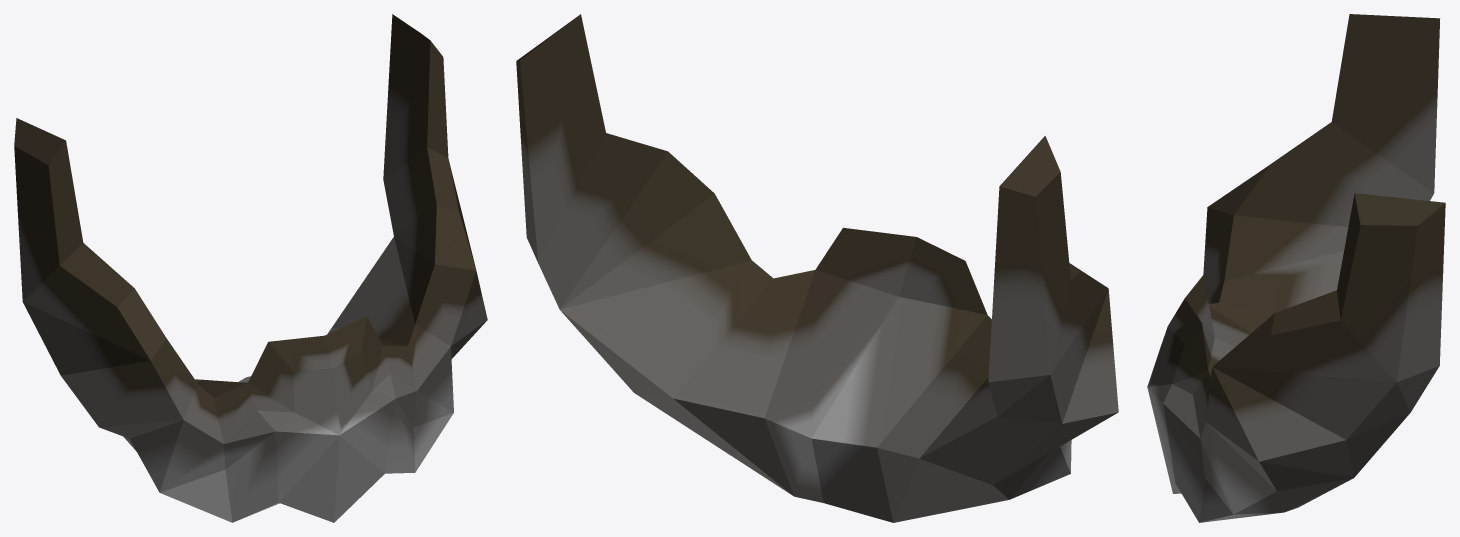
The model's file is SM_Chr_Attach_Beard_03.fbx.
3 renders of one model, left to right at view 1: azimuth 30°, elevation 25°; view 2: azimuth 150°, elevation 25°; view 3: azimuth 270°, elevation 25°, orthographic. The views are drawn at different scales.
Visible parts, largest first — view 1: SM_Chr_Attach_Beard_03; view 2: SM_Chr_Attach_Beard_03; view 3: SM_Chr_Attach_Beard_03.
Part boxes in pixels (x1,y1,x2,y2): SM_Chr_Attach_Beard_03: [14, 14, 487, 522]; SM_Chr_Attach_Beard_03: [516, 14, 1118, 522]; SM_Chr_Attach_Beard_03: [1147, 14, 1445, 522].
Bounding box in the file's own units: 23.18 × 20.09 × 13.76.
